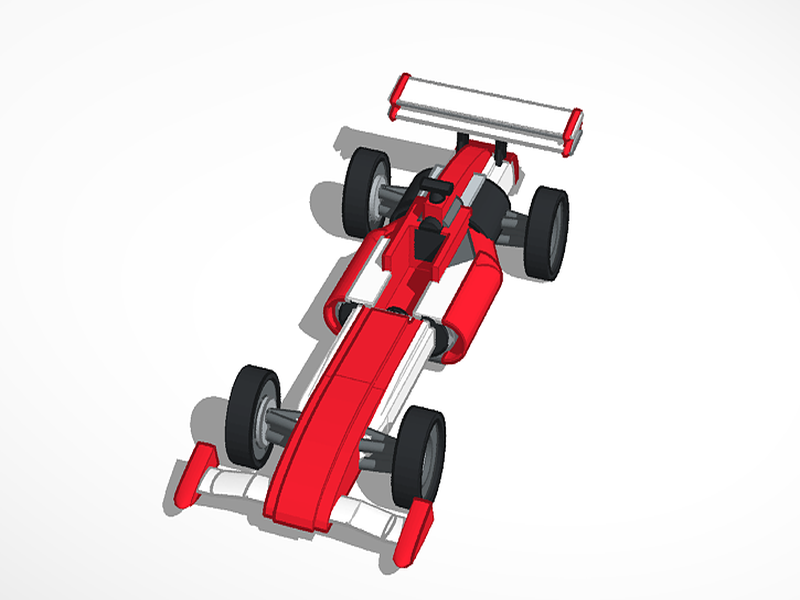f1: (144, 46, 620, 568)
